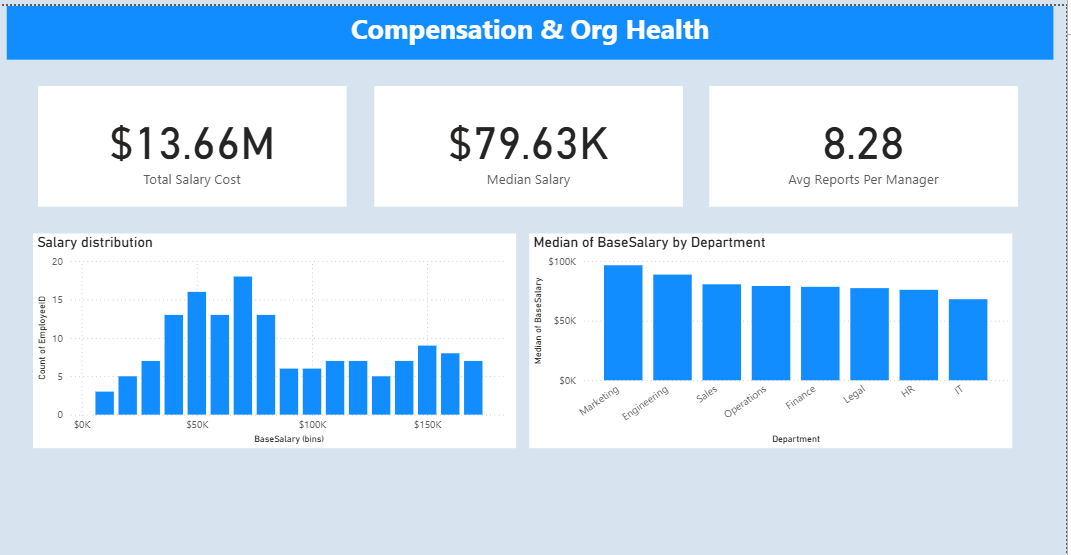

The dashboard page shown, as its layout file describes it:
{"tool":"powerbi","page":{"name":"Compensation & Org Health","canvas":[1280,720],"ordinal":5},"visuals":[{"type":"textbox","box":[16,0,1248,64],"z":0},{"type":"card","fields":{"Values":["dim_employee.Total Salary Cost"]},"box":[54,94.9,368,144],"z":1000},{"type":"card","fields":{"Values":["dim_employee.Median Salary"]},"box":[454,94.9,368,144],"z":2000},{"type":"card","fields":{"Values":["dim_employee.Avg Reports Per Manager"]},"box":[854,94.9,368,144],"z":3000},{"type":"clusteredColumnChart","title":"Salary distribution","fields":{"Category":["dim_employee.BaseSalary (bins)"],"Y":["CountNonNull(dim_employee.EmployeeID)"]},"box":[48,272,576,256],"z":4000},{"type":"columnChart","fields":{"Category":["dim_employee.Department"],"Y":["Median(dim_employee.BaseSalary)"]},"box":[640,272,576,256],"z":5000}]}

Visuals, with their boxes on the page's 1280x720 design canvas (x1, y1, x2, y2). These are canvas units, not pixel positions in the 1071x555 screenshot, which may show the page scaled, cropped or inside an application window:
textbox: box(16, 0, 1264, 64)
card - dim_employee.Total Salary Cost: box(54, 95, 422, 239)
card - dim_employee.Median Salary: box(454, 95, 822, 239)
card - dim_employee.Avg Reports Per Manager: box(854, 95, 1222, 239)
"Salary distribution" clusteredColumnChart: box(48, 272, 624, 528)
columnChart - dim_employee.Department x Median(dim_employee.BaseSalary): box(640, 272, 1216, 528)
